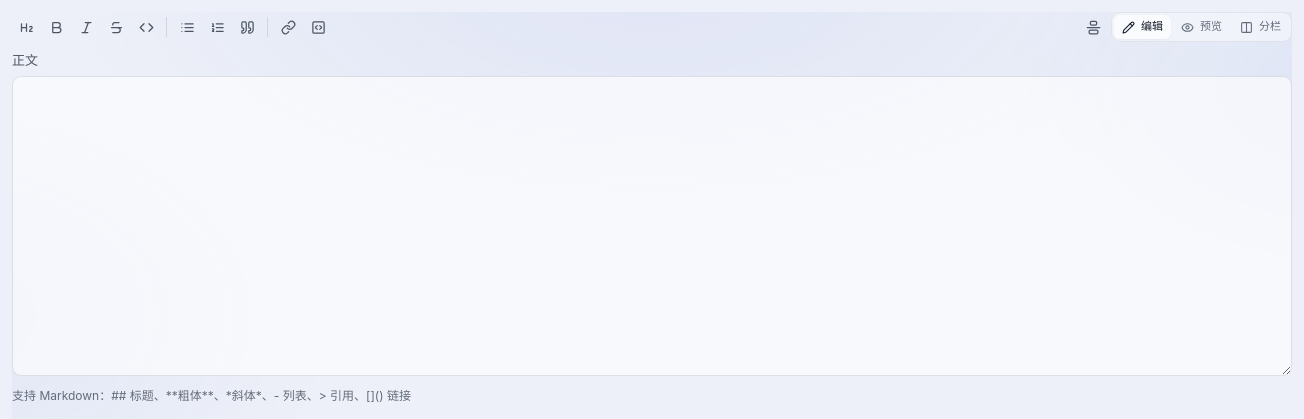
MarkdownEditor › 没有选区时插入占位内容并选中它，接着打字就能覆盖
Click the button named "斜体" at (86, 27), box [72,13,100,41]
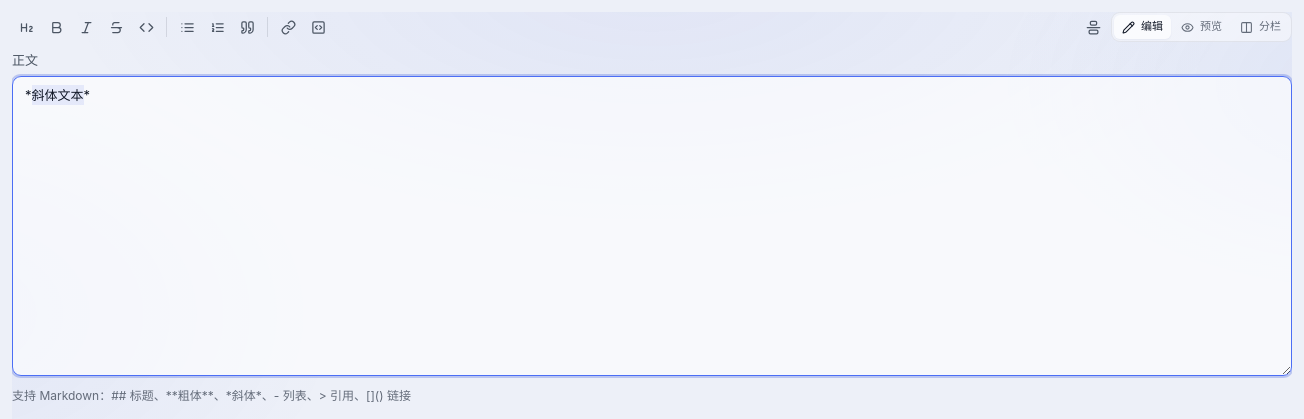
Now the text box labelled "正文" holds "*斜体文本*"
